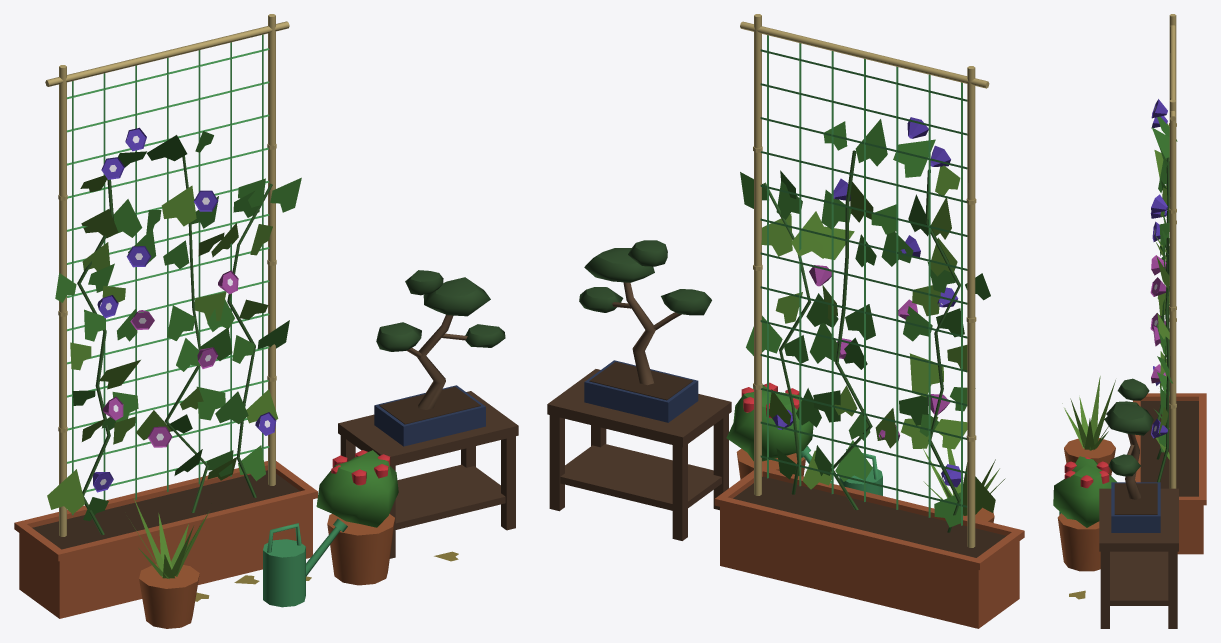
Rendered from potted_plants.glb.
3 renders of one model, left to right at view 1: azimuth 30°, elevation 25°; view 2: azimuth 150°, elevation 25°; view 3: azimuth 270°, elevation 25°, orthographic. The views are drawn at different scales.
Parts seen in each view (by area): view 1: potted_plants; view 2: potted_plants; view 3: potted_plants.
Part boxes in pixels (bbox=[...]): potted_plants: bbox=[14, 14, 518, 628]; potted_plants: bbox=[547, 14, 1024, 628]; potted_plants: bbox=[1053, 14, 1206, 628].
Size of the model in its own units: 1.39 by 1.6 by 0.4994.
